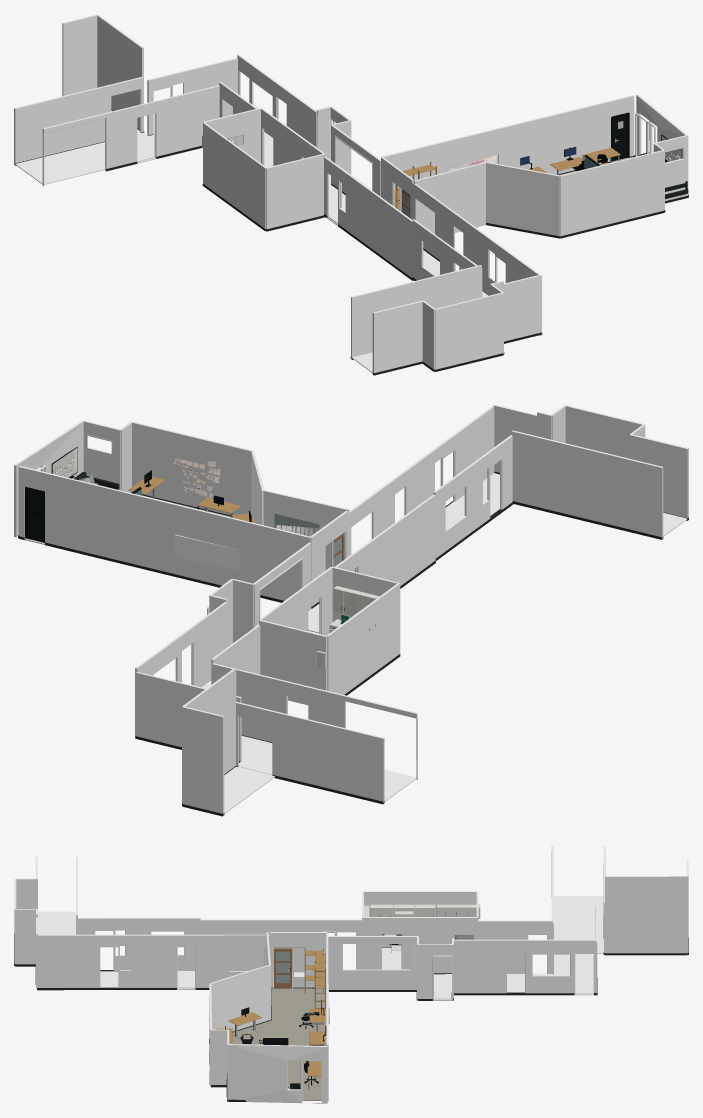
The model's file is model-8211234bbacc.glb.
3 renders of one model, top to bottom at view 1: azimuth 30°, elevation 25°; view 2: azimuth 150°, elevation 25°; view 3: azimuth 270°, elevation 25°, orthographic. The views are drawn at different scales.
Parts seen in each view (by area): view 1: architecture_region_lab-wall-1, architecture_region_lab-wall-5, architecture_region_north-inner, architecture_region_north-outer, architecture_region_lab-hall-west, architecture_region_lab-wall-6, architecture_region_west-inner, architecture_region_west-alcove-back, architecture_region_kitchen-wall-4, architecture_region_kitchen-wall-3, architecture_region_south-hall-east, architecture_region_west-outer-left (+20 smaller); view 2: architecture_region_lab-wall-1, architecture_region_west-inner, architecture_region_lab-wall-5, architecture_region_north-outer, architecture_region_south-hall-east, architecture_region_kitchen-wall-4, architecture_region_north-inner, architecture_region_lab-hall-west, architecture_region_stair-north, architecture_region_south-hall-west, architecture_region_kitchen-wall-1, architecture_region_north-entry (+22 smaller); view 3: architecture_region_south-hall-east, architecture_region_stair-east, architecture_region_central-east, architecture_region_lab-wall-2, architecture_floor_lab-2f, architecture_region_lab-hall-west, architecture_region_kitchen-wall-2, architecture_floor_north-hall-2f, architecture_region_central-east-south, architecture_region_lab-wall-6, architecture_region_south-hall-west, architecture_region_central-west (+11 smaller).
Part boxes in pixels (<box>): architecture_region_lab-wall-1: <box>381,95,634,202</box>; architecture_region_lab-wall-5: <box>560,150,664,237</box>; architecture_region_north-inner: <box>42,85,219,186</box>; architecture_region_north-outer: <box>14,85,108,165</box>; architecture_region_lab-hall-west: <box>324,156,412,277</box>; architecture_region_lab-wall-6: <box>485,161,560,236</box>; architecture_region_west-inner: <box>351,265,481,359</box>; architecture_region_west-alcove-back: <box>434,292,503,369</box>; architecture_region_kitchen-wall-4: <box>203,122,266,228</box>; architecture_region_kitchen-wall-3: <box>266,154,324,229</box>; architecture_region_south-hall-east: <box>412,182,541,335</box>; architecture_region_west-outer-left: <box>372,300,422,373</box>; architecture_region_lab-wall-1: <box>18,466,310,600</box>; architecture_region_west-inner: <box>511,430,663,539</box>; architecture_region_lab-wall-5: <box>131,421,253,515</box>; architecture_region_north-outer: <box>275,711,384,803</box>; architecture_region_south-hall-east: <box>348,405,494,571</box>; architecture_region_kitchen-wall-4: <box>326,583,400,694</box>; architecture_region_north-inner: <box>211,663,417,779</box>; architecture_region_lab-hall-west: <box>335,494,435,585</box>; architecture_region_stair-north: <box>182,706,224,815</box>; architecture_region_south-hall-west: <box>433,435,512,557</box>; architecture_region_kitchen-wall-1: <box>259,620,327,705</box>; architecture_region_north-entry: <box>135,672,241,761</box>; architecture_region_south-hall-east: <box>37,934,270,989</box>; architecture_region_stair-east: <box>605,876,687,953</box>; architecture_region_central-east: <box>454,939,596,995</box>; architecture_region_lab-wall-2: <box>228,1044,327,1103</box>; architecture_floor_lab-2f: <box>229,988,326,1100</box>; architecture_region_lab-hall-west: <box>200,919,362,972</box>; architecture_region_kitchen-wall-2: <box>363,917,476,973</box>; architecture_floor_north-hall-2f: <box>553,896,603,994</box>; architecture_region_central-east-south: <box>328,936,417,989</box>; architecture_region_lab-wall-6: <box>210,964,271,1031</box>; architecture_region_south-hall-west: <box>77,917,200,970</box>; architecture_region_central-west: <box>477,920,552,973</box>.
Bounding box in the file's own units: 24.21 × 4.21 × 32.79.
56 materials, 6 textured.
